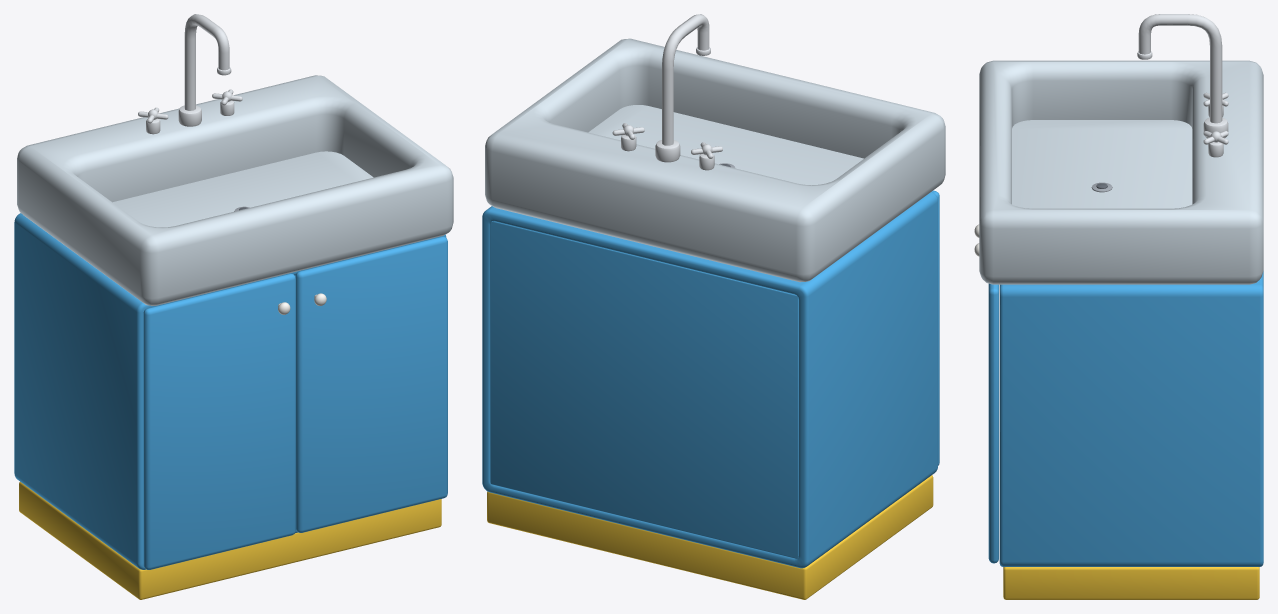
File: armario_cozinha_pia_verde_azul.glb
The picture shows the model from 3 angles, left to right: view 1: azimuth 30°, elevation 25°; view 2: azimuth 150°, elevation 25°; view 3: azimuth 270°, elevation 25°; orthographic projection. The views are drawn at different scales.
Visible parts, largest first — view 1: armario_cozinha_pia_verde_azul, porta_1, porta_2; view 2: armario_cozinha_pia_verde_azul; view 3: armario_cozinha_pia_verde_azul, porta_2.
Boxes of the visible parts, <box> form: armario_cozinha_pia_verde_azul: <box>14,14,453,599</box>; porta_1: <box>143,273,295,569</box>; porta_2: <box>295,236,447,532</box>; armario_cozinha_pia_verde_azul: <box>482,14,945,599</box>; armario_cozinha_pia_verde_azul: <box>979,14,1263,599</box>; porta_2: <box>974,243,998,563</box>.
Size of the model in its own units: 0.798 by 1.18 by 0.609.
Materials: 1 (1 with a texture image).
